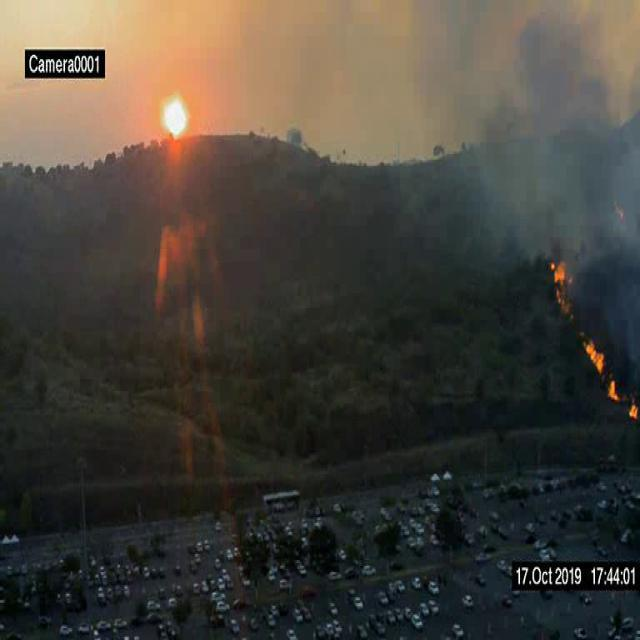Fire: (550, 258, 571, 312), (582, 334, 604, 371), (626, 400, 638, 420), (608, 381, 620, 398)
Smoke: (578, 71, 626, 140), (472, 84, 543, 129), (479, 168, 508, 276), (566, 236, 616, 270), (516, 216, 542, 270), (534, 213, 562, 260)
